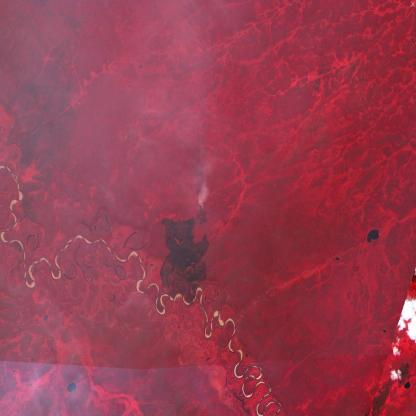fire: (192, 195, 212, 220)
